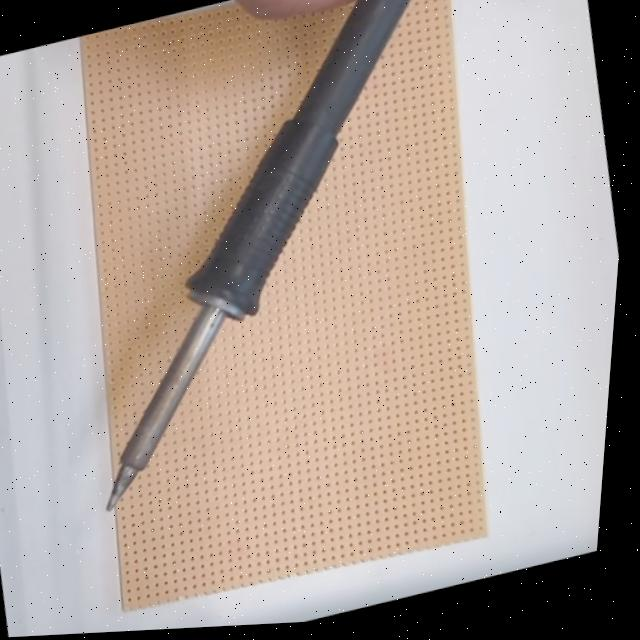soldering_iron: (13, 0, 506, 518)
